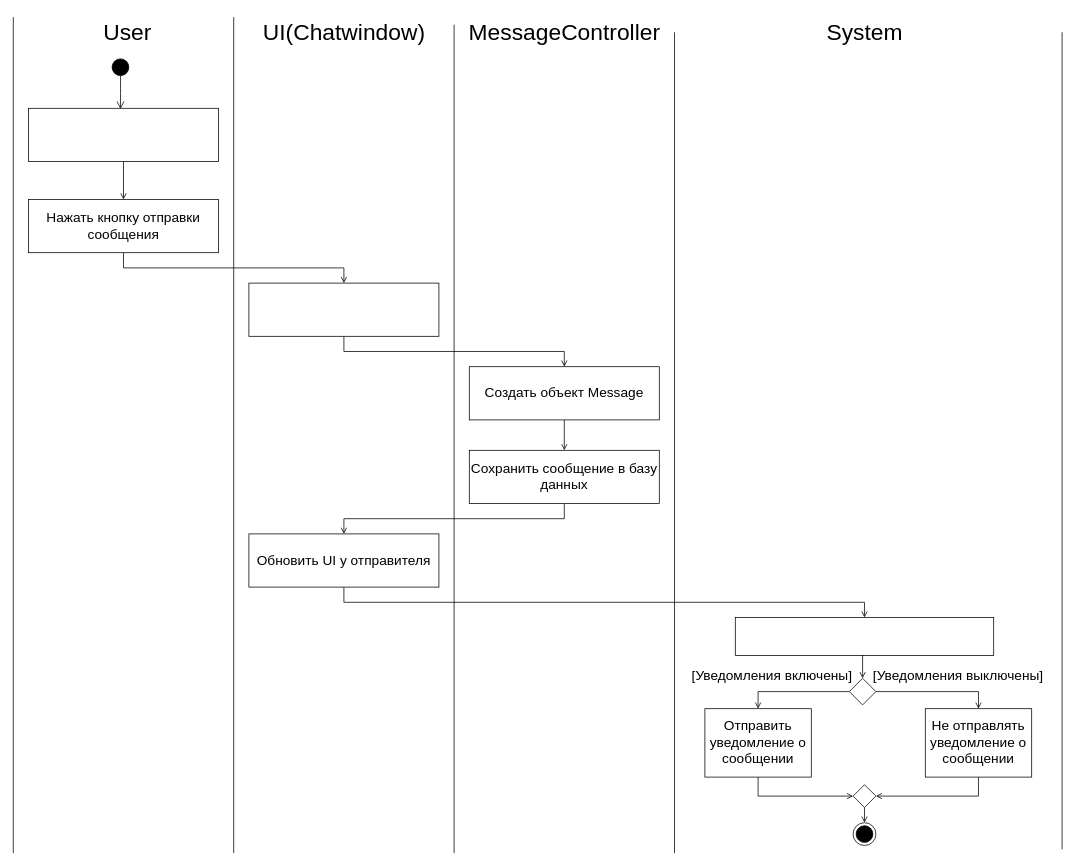
Image size: 1076x867. Some labels were removed from this diagram. Each missing label, with the centre of its shape:
"Ввести текст сообщения" belongs at pixel 123 135.
"Вызвать метод sendMessage() у MessageController" belongs at pixel 343 309.
"Доставить сообщение получателю" belongs at pixel 864 636.
